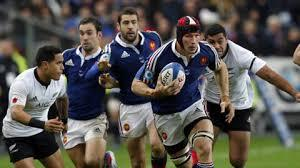ballon_rugby: (159, 61, 186, 96)
